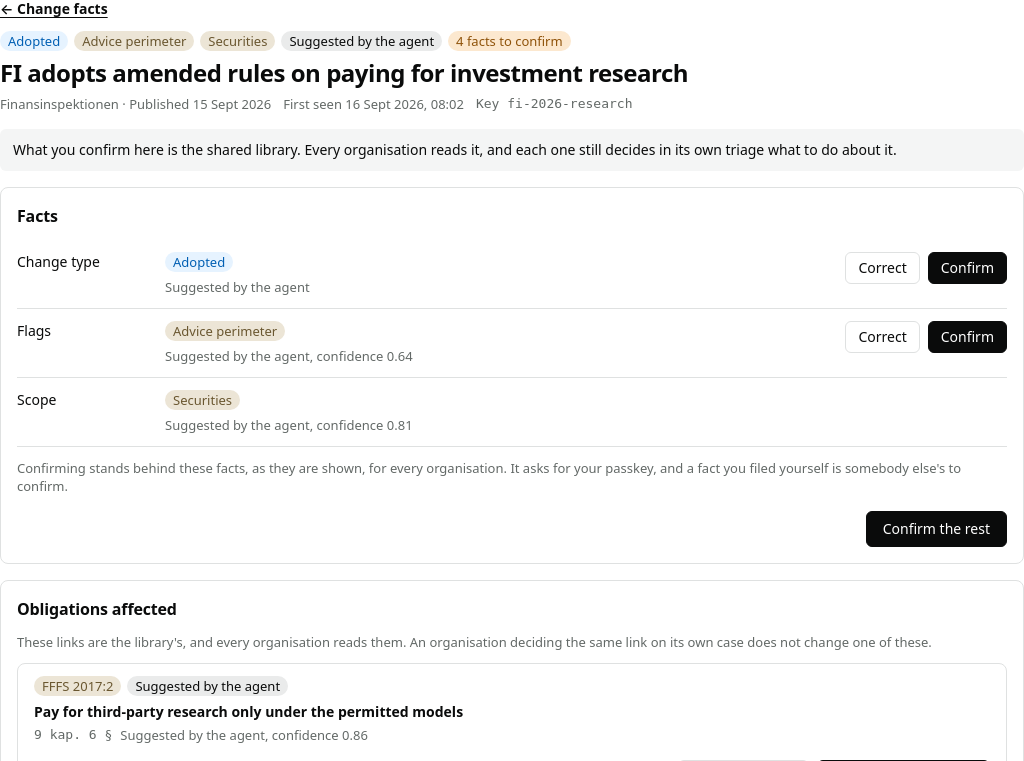
it: console change facts detail › reads a 422 unknown_key from its code and offers the valid keys, never the sentence
The image size is (1024, 761).
Expected: the heading "FI adopts amended rules on paying for investment research" is shown, [0, 56, 688, 89]
Click the button "Correct" in the row of "Change type" at (883, 268), box [845, 252, 920, 284]
(page scrolled)
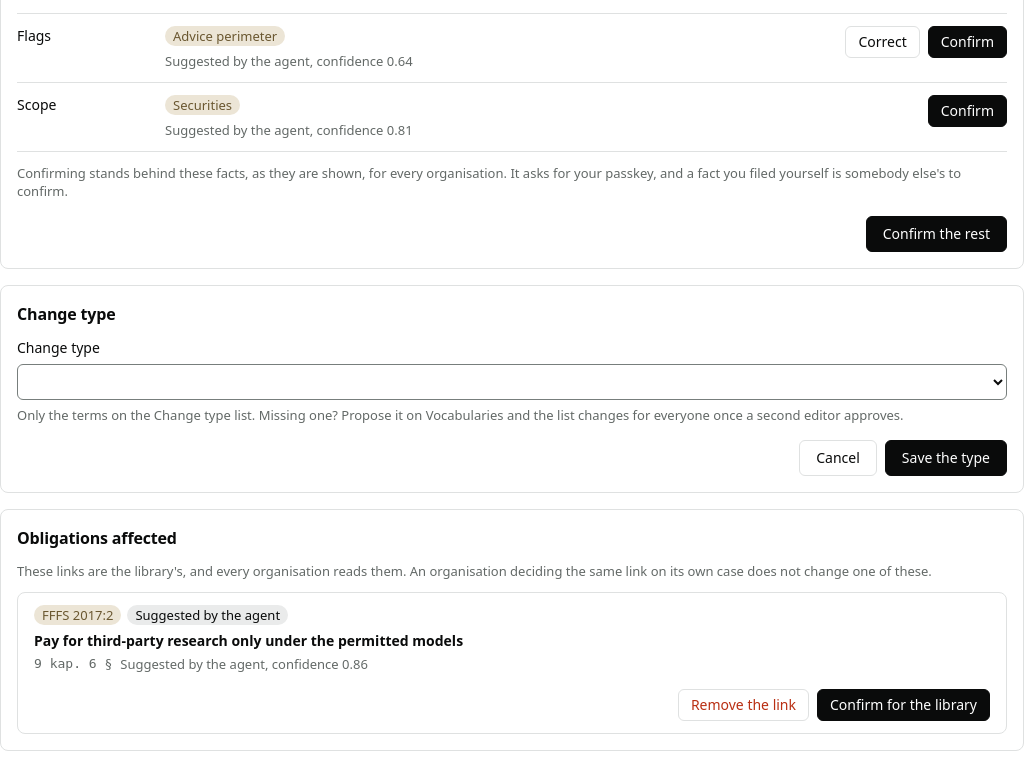
Click the button "Save the type" at (946, 458), box [885, 440, 1007, 476]
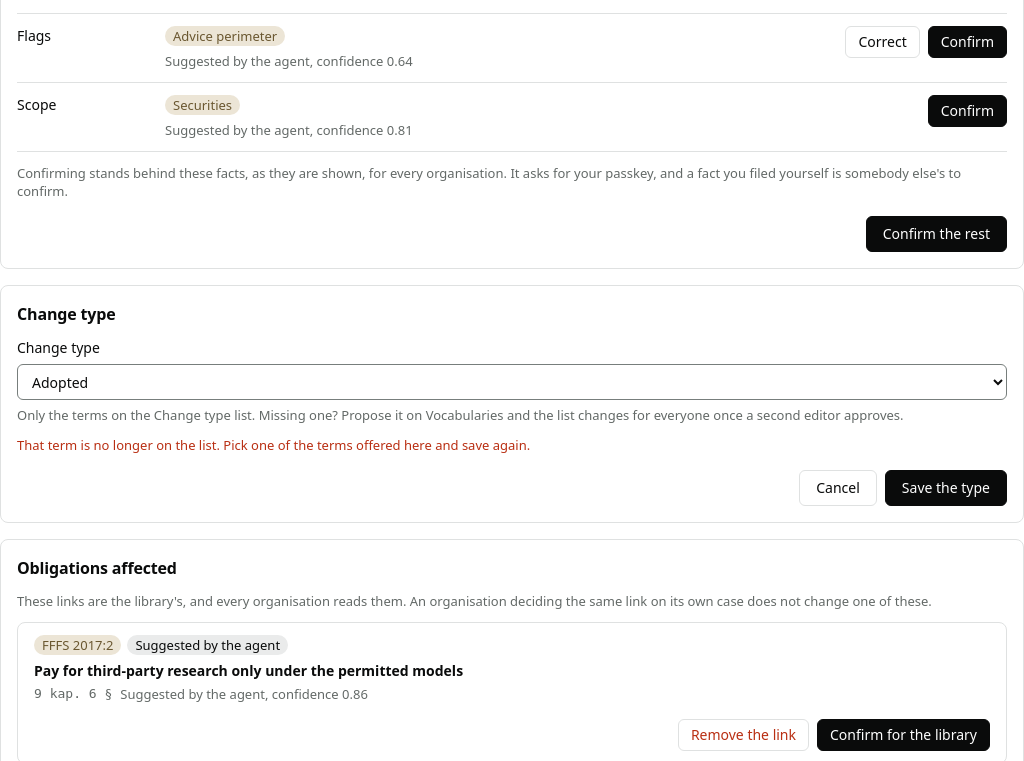
Expected: the message does not show "is not a change_type", [17, 436, 530, 454]
Expected: the message shows "That term is no longer on the list.", [17, 436, 530, 454]
